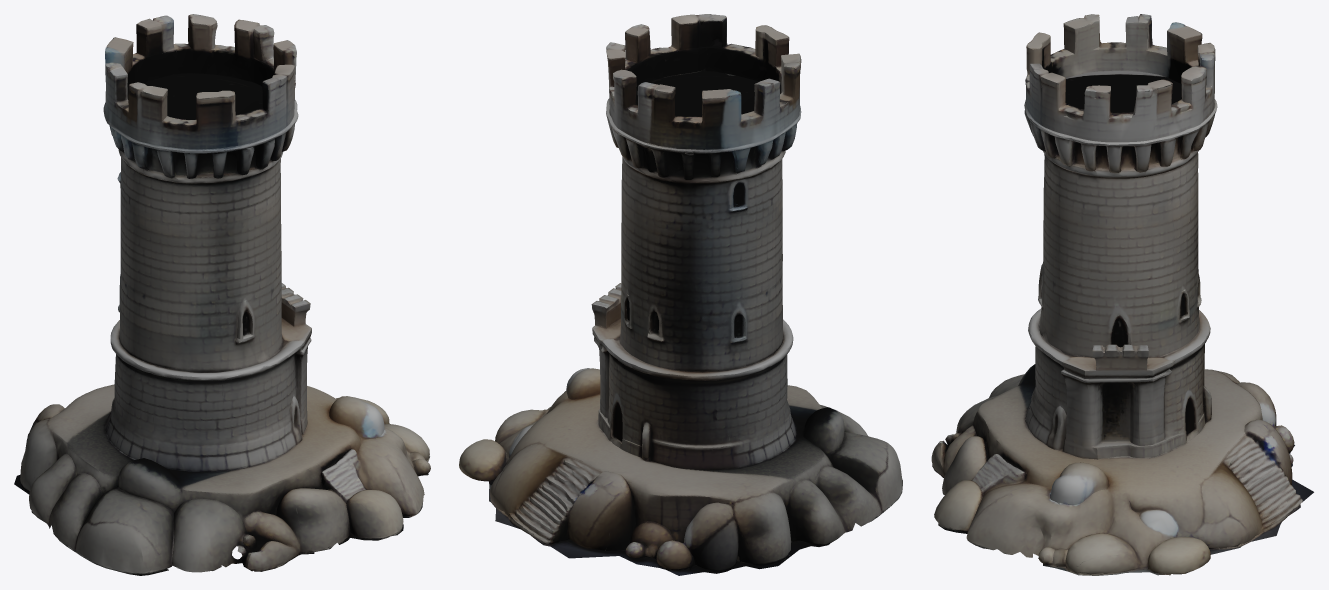
File: tower.glb
3 views of the same model, side by side, from view 1: azimuth 30°, elevation 25°; view 2: azimuth 150°, elevation 25°; view 3: azimuth 270°, elevation 25° (orthographic). The views are drawn at different scales.
Parts seen in each view (by area): view 1: Object_4; view 2: Object_4; view 3: Object_4.
Part boxes in pixels (box(x1,y1,x2,y2)): Object_4: box(14, 14, 430, 575); Object_4: box(459, 14, 902, 575); Object_4: box(931, 14, 1313, 575).
Size of the model in its own units: 0.8049 by 0.9253 by 0.7506.
Materials: 1 (1 with a texture image).
